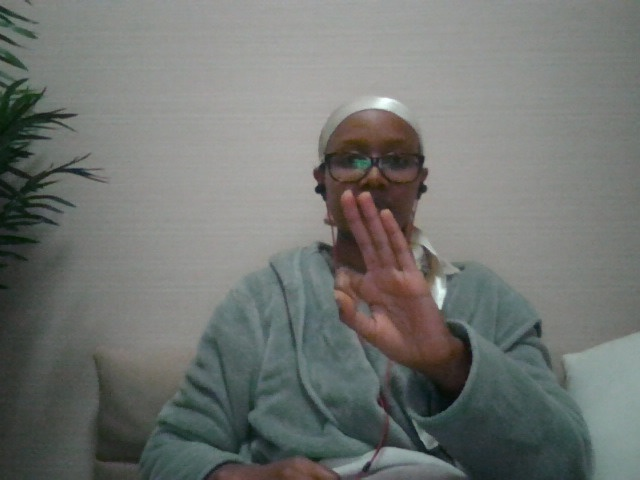ok: (327, 183, 465, 382)
